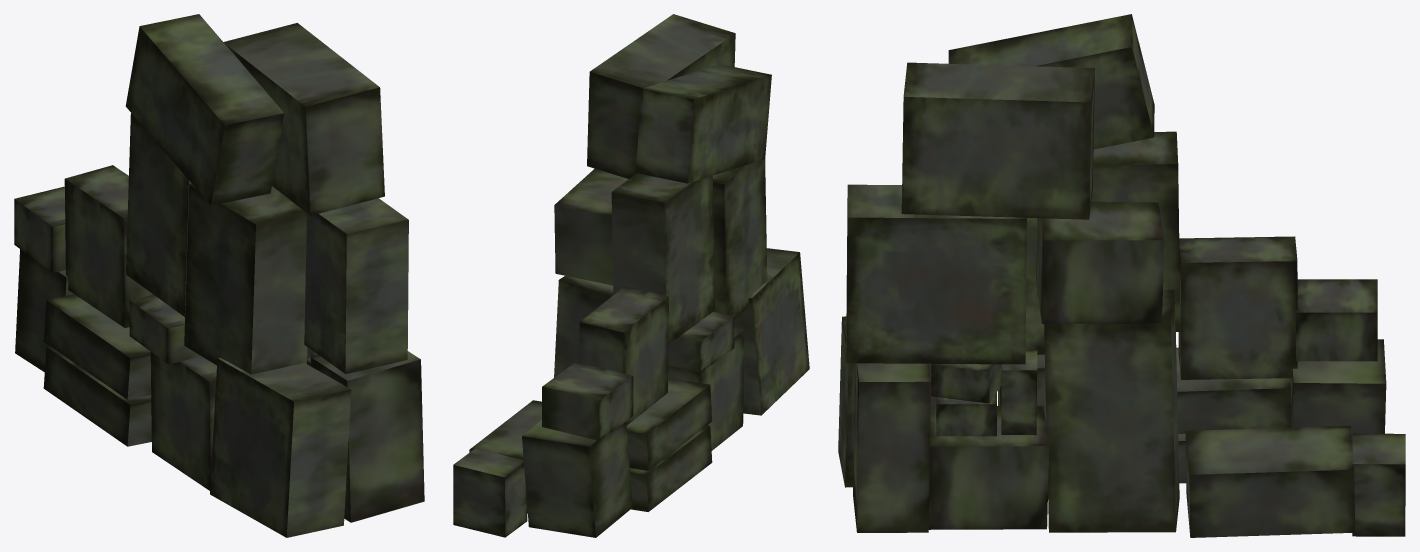
Rendered from ruin-wall_broken_01.fbx.
The picture shows the model from 3 angles, left to right: view 1: azimuth 30°, elevation 25°; view 2: azimuth 150°, elevation 25°; view 3: azimuth 270°, elevation 25°; orthographic projection. The views are drawn at different scales.
Parts seen in each view (by area): view 1: wall_broken_01; view 2: wall_broken_01; view 3: wall_broken_01.
Boxes of the visible parts, box(x1,y1,x2,y2) form: wall_broken_01: box(14, 14, 424, 537); wall_broken_01: box(453, 14, 809, 537); wall_broken_01: box(838, 14, 1405, 537).
Size of the model in its own units: 179 by 411 by 470.
